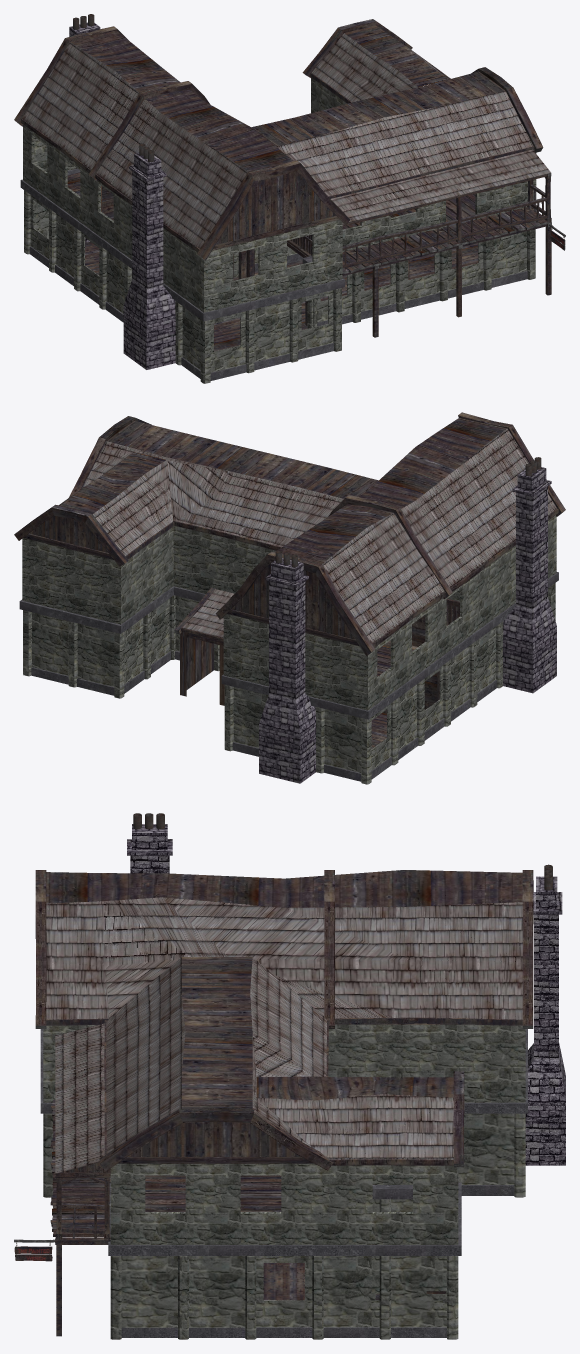
The model's file is tavern_interior.glb.
3 renders of one model, top to bottom at view 1: azimuth 30°, elevation 25°; view 2: azimuth 150°, elevation 25°; view 3: azimuth 270°, elevation 25°, orthographic. The views are drawn at different scales.
Visible parts, largest first — view 1: Roof, WallsLevel1, WallsLevel2, RoofWood, Balcony, Chimney, RoofFrame, Level3, Foundation, Floor, Level2Frame, UpperFloorMain (+3 smaller); view 2: Roof, WallsLevel2, WallsLevel1, RoofWood, ChimneyHearth, Chimney, RoofFrame, Level2Frame, Level3, Foundation, Pantry, PantryRoof (+5 smaller); view 3: Roof, WallsLevel2, WallsLevel1, RoofWood, RoofFrame, ChimneyHearth, Level2Frame, Balcony, Level3, Foundation, UpperFloorMain, Chimney (+3 smaller).
Part boxes in pixels (bbox=[...]): Roof: bbox=[22, 33, 550, 248]; WallsLevel1: bbox=[24, 190, 535, 383]; WallsLevel2: bbox=[23, 78, 536, 312]; RoofWood: bbox=[70, 25, 504, 189]; Balcony: bbox=[342, 173, 551, 337]; Chimney: bbox=[123, 143, 175, 369]; RoofFrame: bbox=[14, 19, 542, 260]; Level3: bbox=[216, 171, 335, 244]; Foundation: bbox=[29, 246, 527, 380]; Floor: bbox=[85, 241, 478, 351]; Level2Frame: bbox=[20, 168, 536, 321]; UpperFloorMain: bbox=[287, 194, 475, 279]; Roof: bbox=[59, 428, 556, 643]; WallsLevel2: bbox=[22, 515, 556, 710]; WallsLevel1: bbox=[23, 583, 555, 784]; RoofWood: bbox=[61, 418, 506, 581]; ChimneyHearth: bbox=[259, 550, 315, 783]; Chimney: bbox=[503, 457, 556, 693]; RoofFrame: bbox=[14, 412, 565, 656]; Level2Frame: bbox=[19, 572, 558, 719]; Level3: bbox=[29, 515, 354, 639]; Foundation: bbox=[31, 615, 496, 781]; Pantry: bbox=[180, 631, 224, 705]; PantryRoof: bbox=[182, 589, 234, 638]; Roof: bbox=[46, 897, 522, 1173]; WallsLevel2: bbox=[43, 1024, 525, 1244]; WallsLevel1: bbox=[43, 1113, 525, 1339]; RoofWood: bbox=[46, 870, 522, 1108]; RoofFrame: bbox=[35, 870, 533, 1171]; ChimneyHearth: bbox=[525, 864, 565, 1165]; Level2Frame: bbox=[40, 1029, 527, 1255]; Balcony: bbox=[50, 1025, 110, 1336]; Level3: bbox=[127, 1122, 300, 1156]; Foundation: bbox=[121, 1185, 514, 1337]; UpperFloorMain: bbox=[145, 1098, 281, 1211]; Chimney: bbox=[127, 813, 172, 873].
Size of the model in its own units: 16.12 by 8.33 by 14.77.
Materials: 8 (8 with a texture image).
